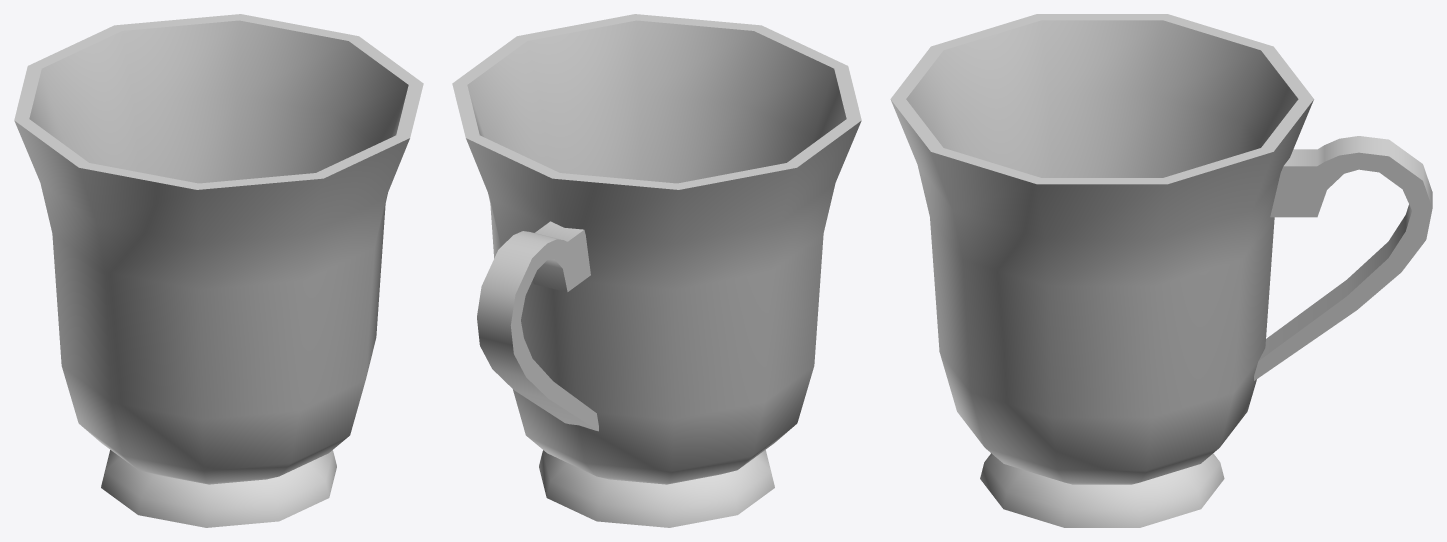
The model's file is CoffeeCup_02.fbx.
3 views of the same model, side by side, from view 1: azimuth 30°, elevation 25°; view 2: azimuth 150°, elevation 25°; view 3: azimuth 270°, elevation 25° (orthographic).
Visible parts, largest first — view 1: CoffeeCup_02; view 2: CoffeeCup_02; view 3: CoffeeCup_02.
Part boxes in pixels (<box>): CoffeeCup_02: <box>14,14,423,527</box>; CoffeeCup_02: <box>452,14,861,527</box>; CoffeeCup_02: <box>890,14,1432,527</box>.
Bounding box in the file's own units: 0.1078 × 0.1121 × 0.145.
